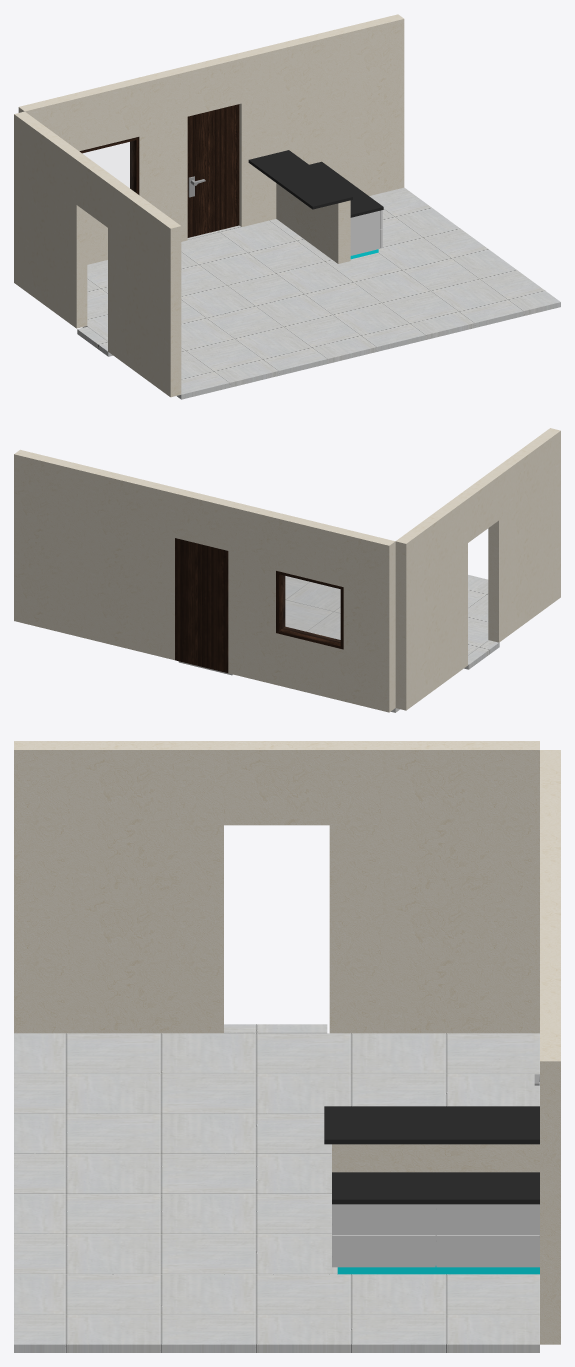
Rendered from set.fbx.
3 renders of one model, top to bottom at view 1: azimuth 30°, elevation 25°; view 2: azimuth 150°, elevation 25°; view 3: azimuth 270°, elevation 25°, orthographic. The views are drawn at different scales.
Parts seen in each view (by area): view 1: ground, polySurface1, wall_L, door, semi_wall, semi_wall_wood, counter_sink, semi_wall_wood1, polySurface2; view 2: polySurface1, wall_L, door, ground, polySurface2; view 3: ground, wall_L, polySurface1, semi_wall_wood, semi_wall_wood1, semi_wall, counter_sink1, counter_sink5, counter_sink3, counter_sink4, counter_sink2.
Part boxes in pixels (x1,y1,x2,y2): ground: (77,187,560,399); polySurface1: (18,14,404,264); wall_L: (14,111,181,397); door: (187,104,239,237); semi_wall: (276,183,350,263); semi_wall_wood: (248,150,352,209); counter_sink: (350,211,380,255); semi_wall_wood1: (309,161,383,217); polySurface2: (79,137,139,194); polySurface1: (14,449,395,712); wall_L: (395,428,560,710); door: (175,538,228,672); ground: (178,575,499,712); polySurface2: (276,571,343,649); ground: (14,1024,539,1352); wall_L: (14,741,539,1033); polySurface1: (540,750,560,1344); semi_wall_wood: (324,1106,539,1144); semi_wall_wood1: (332,1172,539,1204); semi_wall: (332,1144,539,1172); counter_sink1: (436,1235,539,1267); counter_sink5: (332,1235,435,1267); counter_sink3: (436,1204,539,1235); counter_sink4: (332,1204,435,1235); counter_sink2: (337,1266,539,1274).
Bounding box in the file's own units: 7.2 × 3.06 × 5.2.
Materials: 8 (3 with a texture image).
